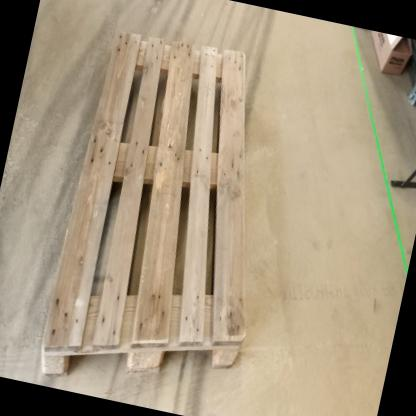BoxFace: (34, 24, 250, 379)
